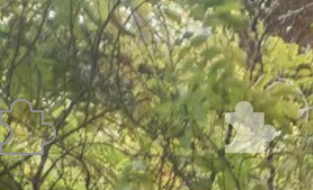target: (216, 98, 281, 156)
